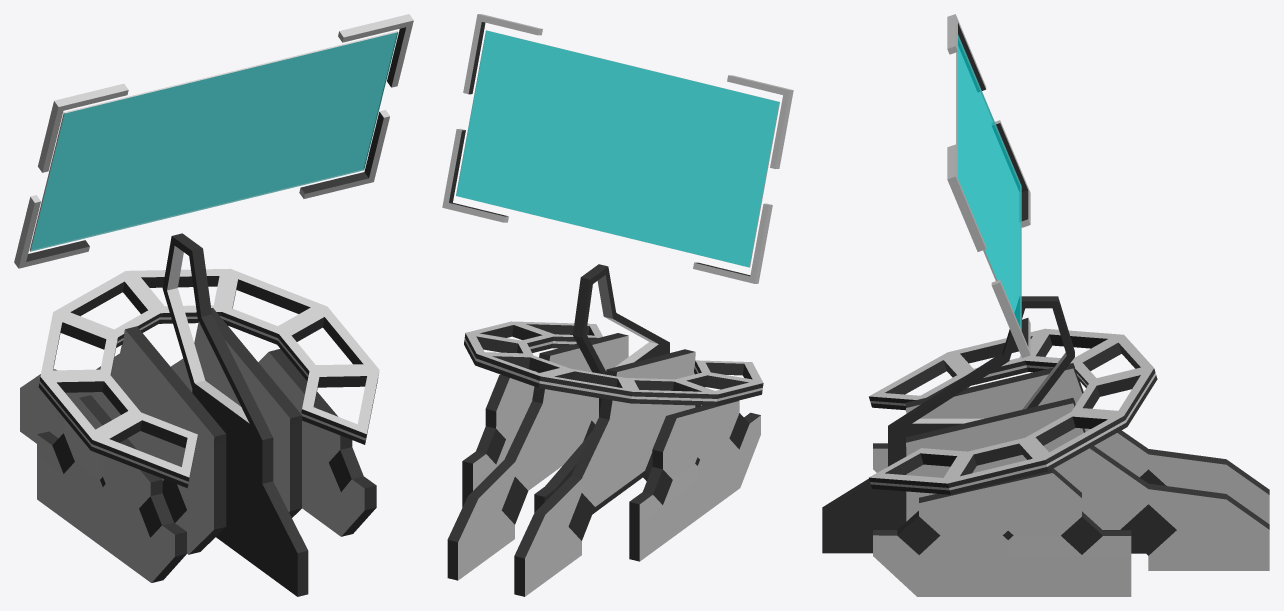
Rendered from Terminal_FBX.fbx.
3 renders of one model, left to right at view 1: azimuth 30°, elevation 25°; view 2: azimuth 150°, elevation 25°; view 3: azimuth 270°, elevation 25°, orthographic. The views are drawn at different scales.
Parts seen in each view (by area): view 1: Screen, Circle, Cube, Cube.002, Cube.001, Frame_L.r, Frame_H.L, Frame_H.R, Frame_L.l; view 2: Screen, Cube.002, Cube, Circle, Cube.001, Frame_L.r, Frame_H.L, Frame_L.l, Frame_H.R; view 3: Cube.002, Cube, Circle, Screen, Cube.001, Frame_H.R, Frame_L.r, Frame_L.l, Frame_H.L.
Boxes of the visible parts, bbox=[...] form: Screen: bbox=[29, 31, 398, 251]; Circle: bbox=[38, 268, 379, 488]; Cube: bbox=[37, 349, 376, 582]; Cube.002: bbox=[20, 308, 302, 554]; Cube.001: bbox=[162, 233, 308, 596]; Frame_L.r: bbox=[299, 110, 389, 198]; Frame_H.L: bbox=[38, 83, 128, 172]; Frame_H.R: bbox=[338, 14, 413, 87]; Frame_L.l: bbox=[14, 195, 89, 268]; Screen: bbox=[456, 30, 779, 267]; Cube.002: bbox=[447, 333, 695, 596]; Cube: bbox=[462, 369, 760, 561]; Circle: bbox=[464, 321, 763, 405]; Cube.001: bbox=[534, 264, 700, 514]; Frame_L.r: bbox=[442, 128, 508, 222]; Frame_H.L: bbox=[727, 75, 793, 168]; Frame_L.l: bbox=[693, 203, 772, 283]; Frame_H.R: bbox=[463, 14, 542, 94]; Cube.002: bbox=[906, 363, 1269, 570]; Cube: bbox=[873, 443, 1131, 596]; Circle: bbox=[869, 328, 1157, 494]; Screen: bbox=[956, 34, 1021, 330]; Cube.001: bbox=[822, 296, 1145, 553]; Frame_H.R: bbox=[947, 144, 986, 251]; Frame_L.r: bbox=[991, 280, 1030, 358]; Frame_L.l: bbox=[992, 120, 1030, 227]; Frame_H.L: bbox=[947, 14, 986, 91].
Bounding box in the file's own units: 426 × 557 × 496.
